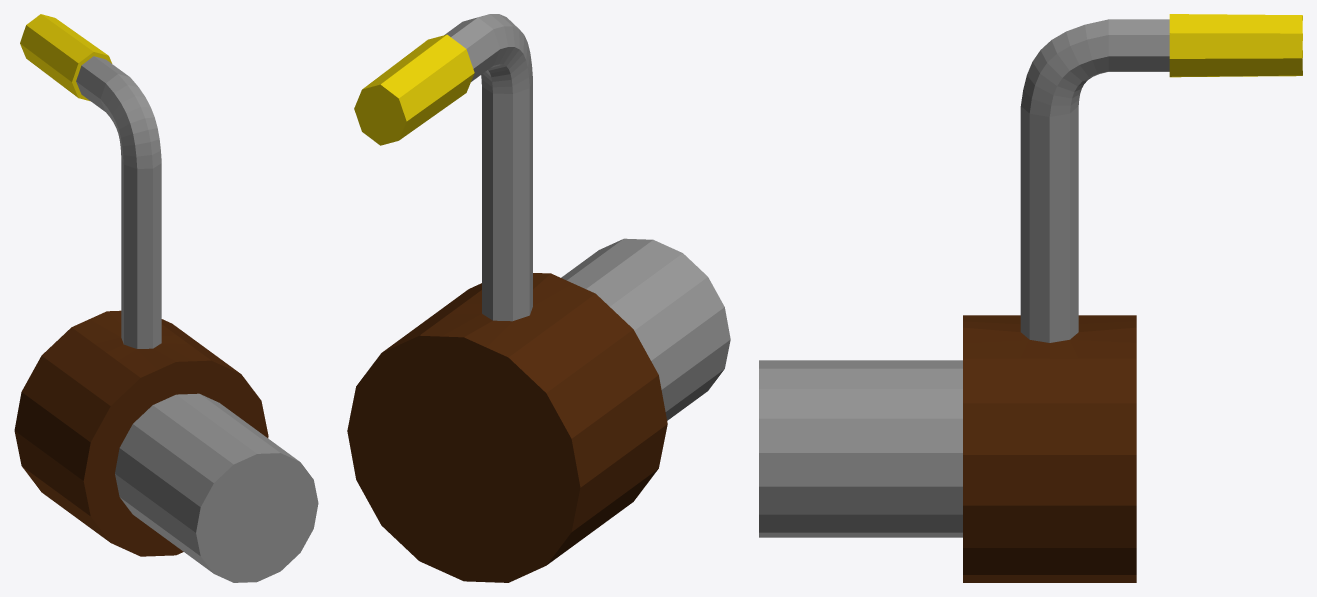
File: Crank.fbx
3 views of the same model, side by side, from view 1: azimuth 30°, elevation 25°; view 2: azimuth 150°, elevation 25°; view 3: azimuth 270°, elevation 25° (orthographic). The views are drawn at different scales.
Visible parts, largest first — view 1: Crank; view 2: Crank; view 3: Crank.
Part boxes in pixels (x1,y1,x2,y2): Crank: (14,14,318,582); Crank: (347,14,730,582); Crank: (759,14,1302,582).
Bounding box in the file's own units: 37.31 × 18.4 × 42.15.
